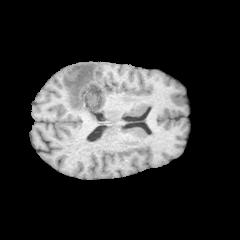glioma: (64, 62, 110, 113)
